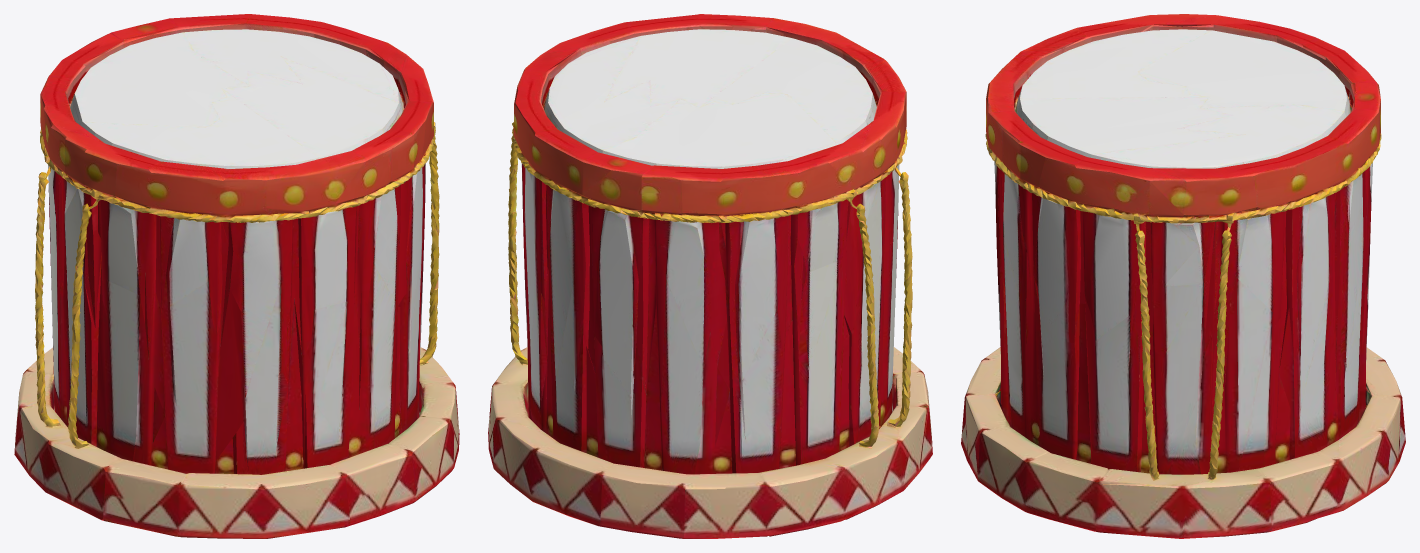
File: podium.glb
The picture shows the model from 3 angles, left to right: view 1: azimuth 30°, elevation 25°; view 2: azimuth 150°, elevation 25°; view 3: azimuth 270°, elevation 25°; orthographic projection.
Size of the model in its own units: 1.9 by 1.65 by 1.9.
Materials: 1 (1 with a texture image).
